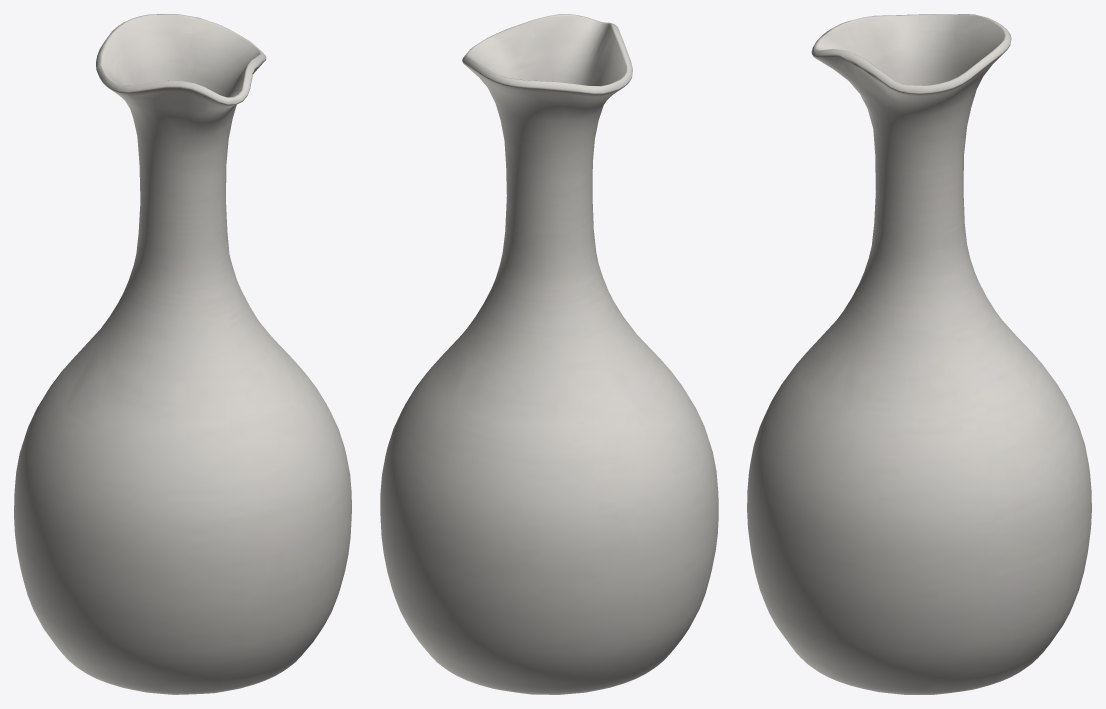
Rendered from ceramic_vase.glb.
3 renders of one model, left to right at view 1: azimuth 30°, elevation 25°; view 2: azimuth 150°, elevation 25°; view 3: azimuth 270°, elevation 25°, orthographic.
Visible parts, largest first — view 1: ceramic_vase_01; view 2: ceramic_vase_01; view 3: ceramic_vase_01.
Boxes of the visible parts, box(x1,y1,x2,y2) form: ceramic_vase_01: box(14, 14, 351, 694); ceramic_vase_01: box(380, 14, 718, 694); ceramic_vase_01: box(747, 14, 1091, 694).
Size of the model in its own units: 0.2036 by 0.4003 by 0.2036.
Materials: 1 (1 with a texture image).
